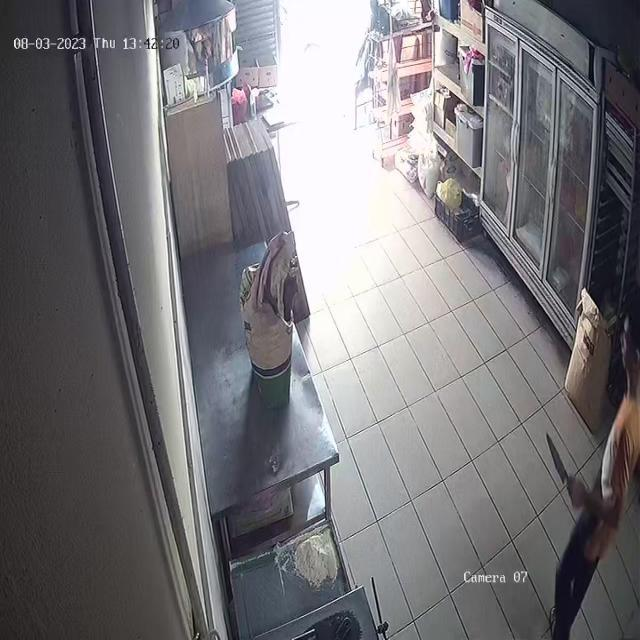Knife: (545, 426, 573, 489)
